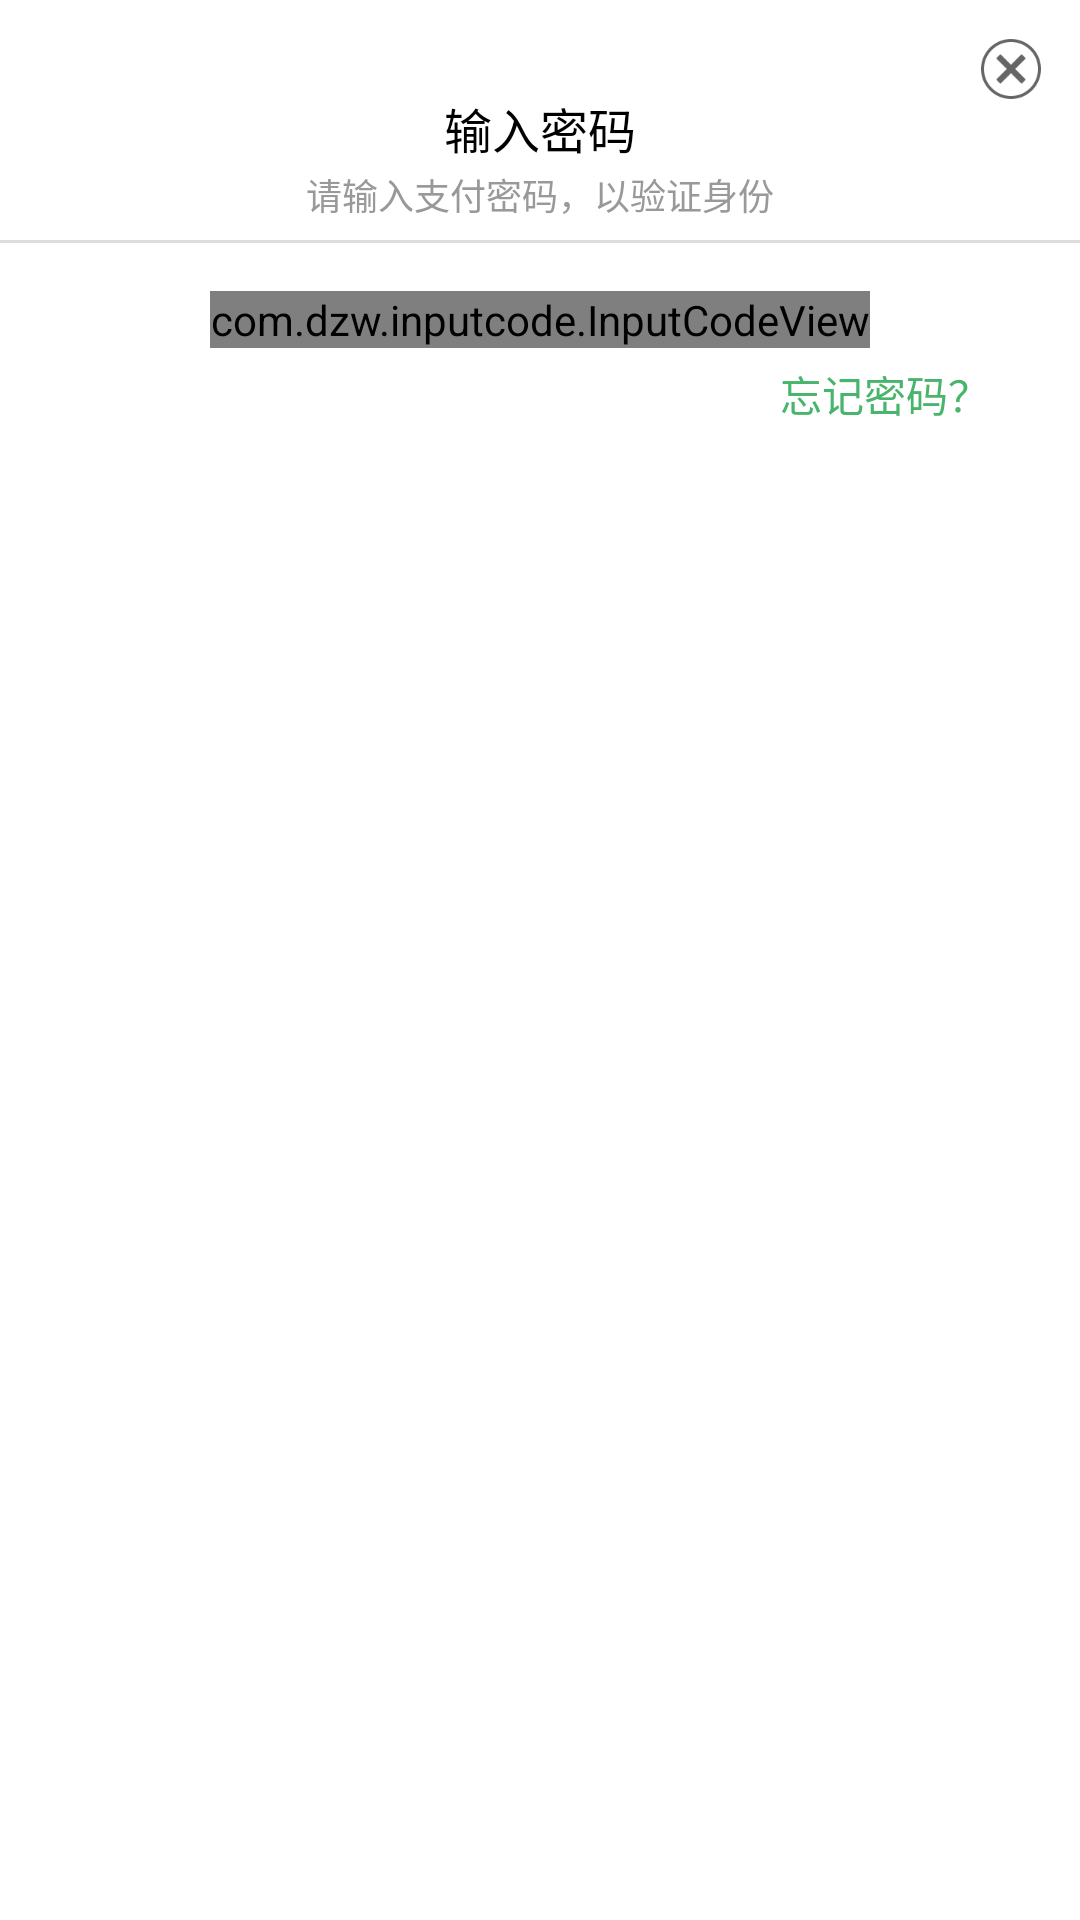

Where icons sit on this 1080 x 1920 app screen, as (x1, y1, x2, y2):
cancel: (981, 39, 1041, 99)
